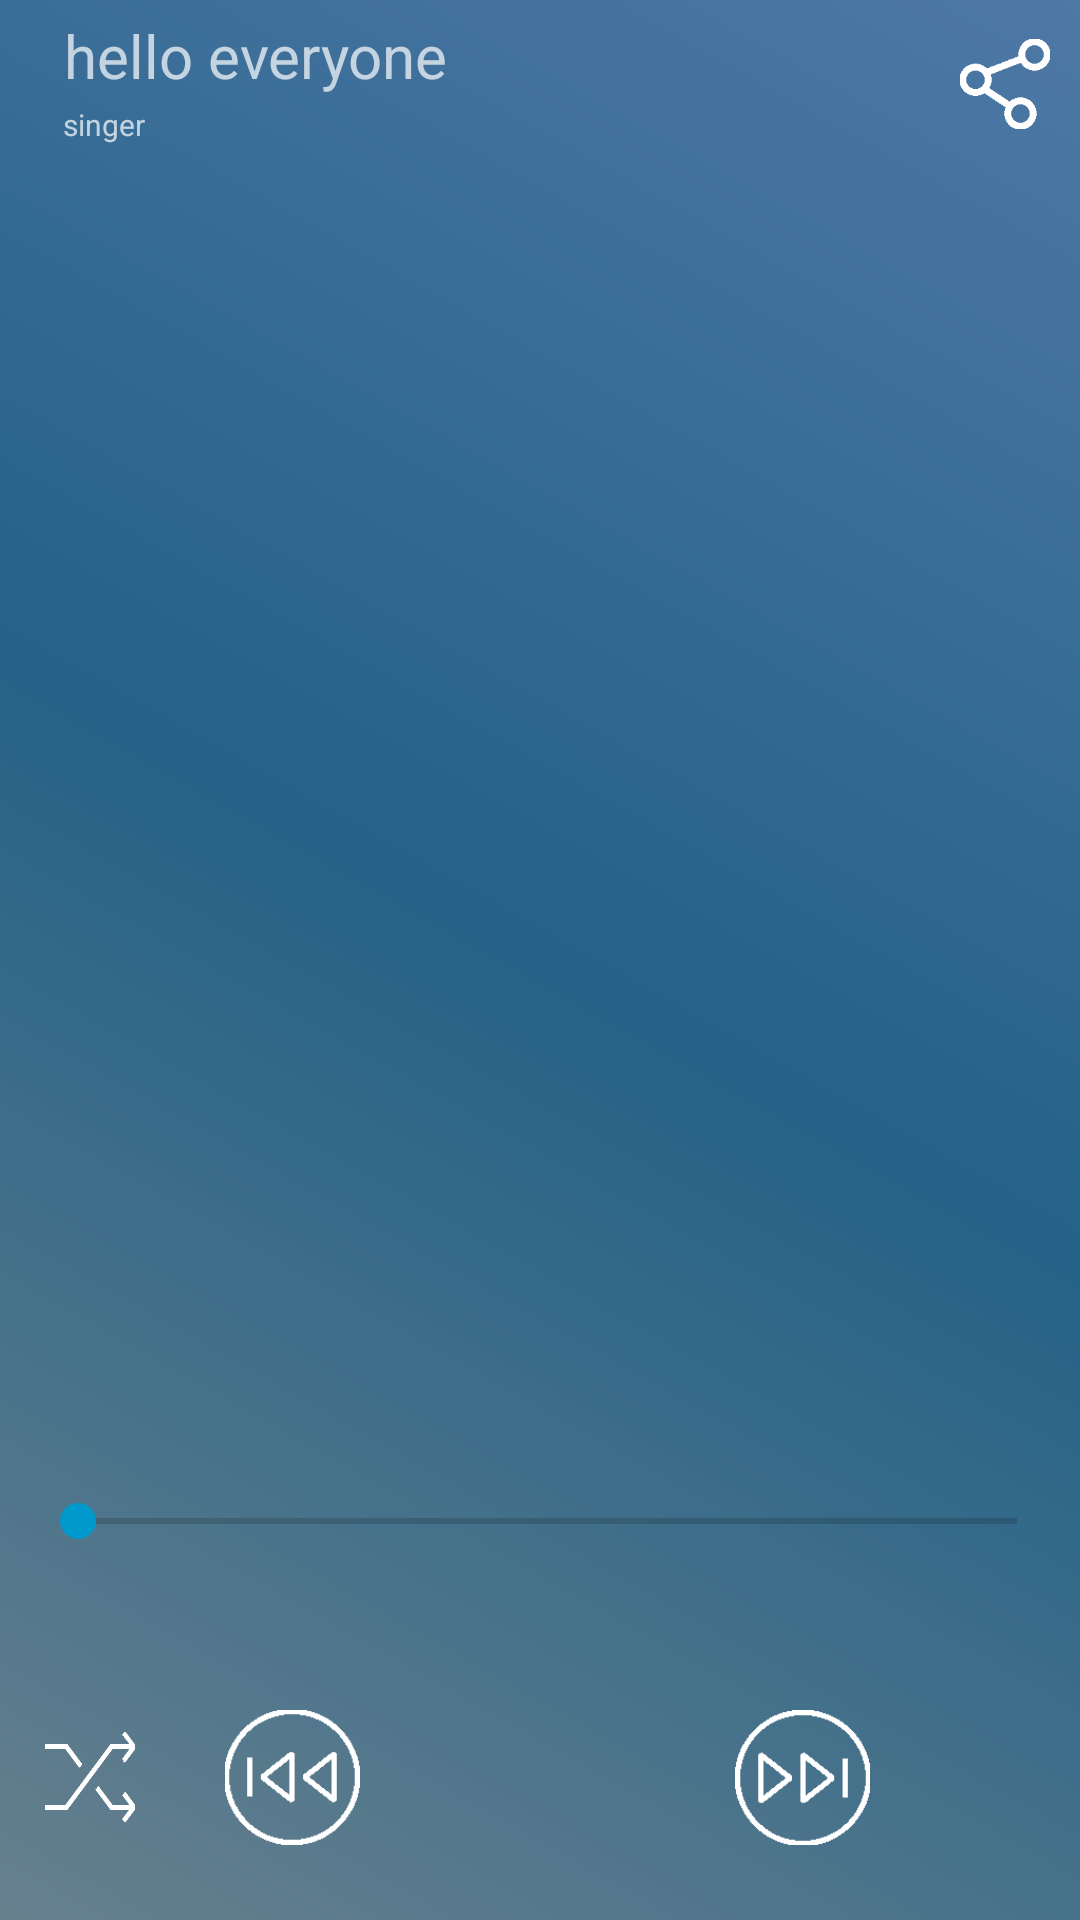

Screen size 1080px×1920px. Icon name, then its box in pixels as (x1, y1, x2, y2):
next: (735, 1710, 870, 1845)
pre: (225, 1710, 360, 1845)
random: (45, 1732, 135, 1822)
share: (960, 39, 1050, 129)
